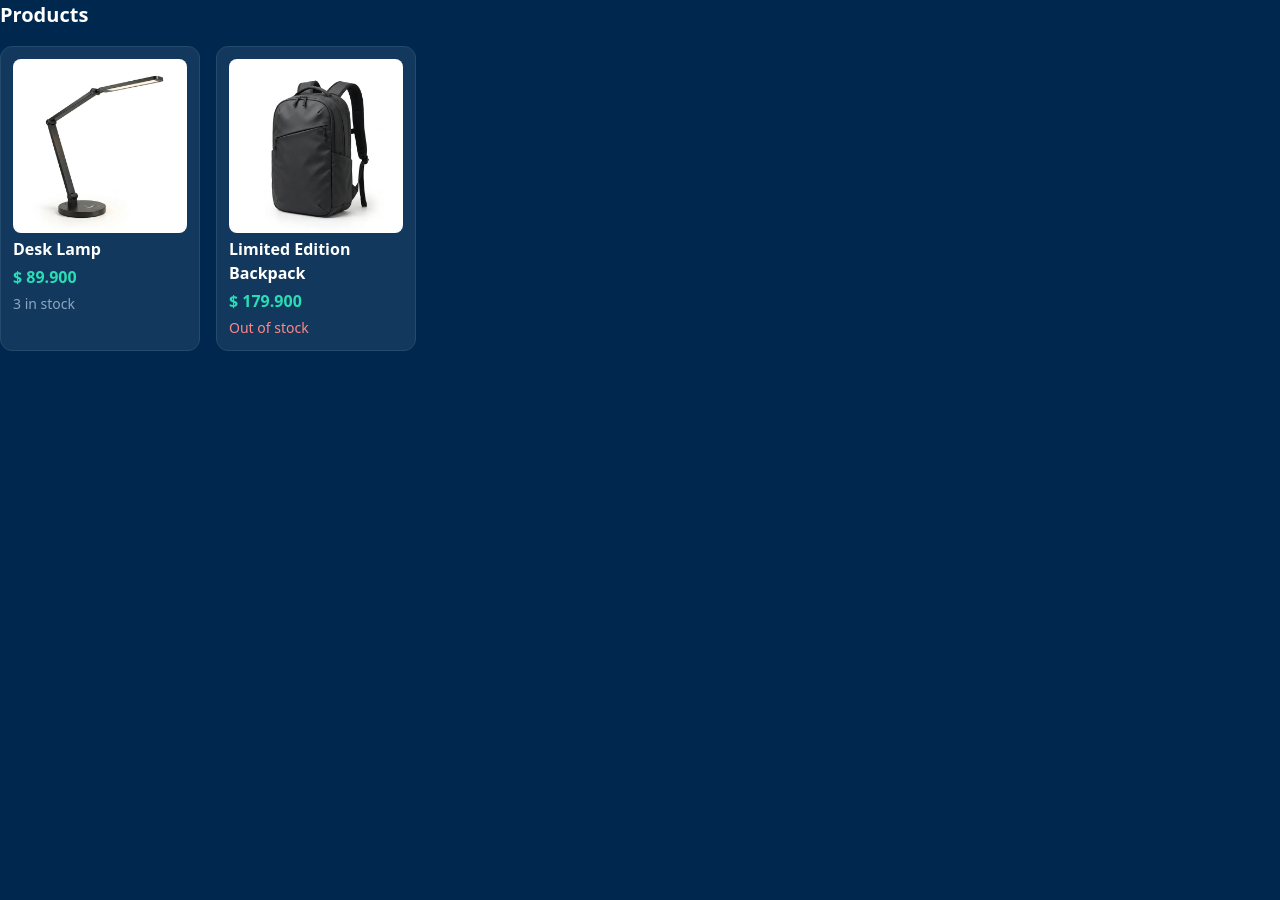
Test: ProductPage › closes the modal with the close button or Escape, but not by clicking outside it
Later steps or results of the test are not shown.
What coordinates should you click on to do the following:
click the button "Desk Lamp $ 89.900 3 in stock"
I would click on:
 (100, 198)
Its box is top-left (0, 46), bottom-right (200, 351).
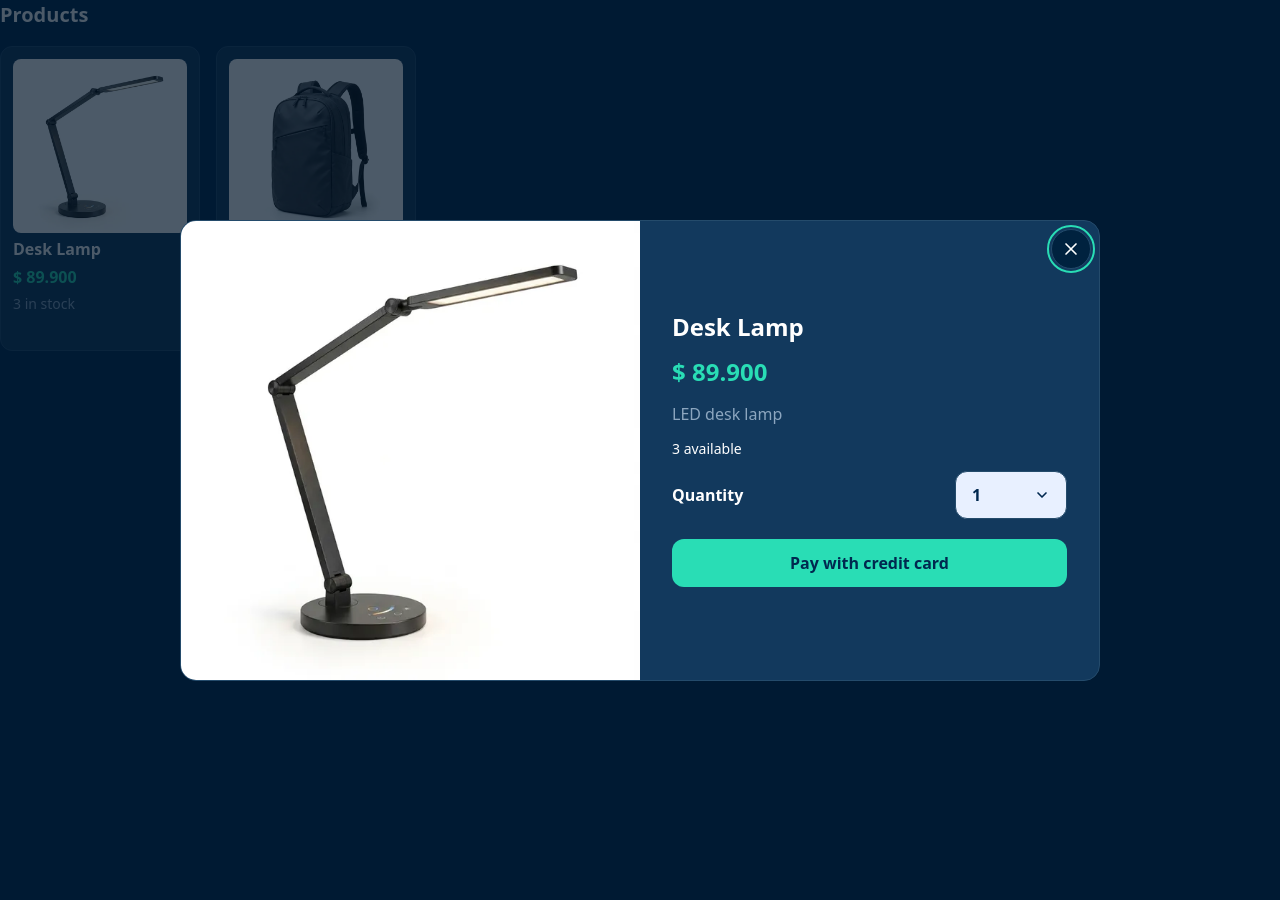
What coordinates should you click on to do the following:
click the dialog
I would click on:
 (640, 450)
Its box is top-left (180, 220), bottom-right (1100, 680).
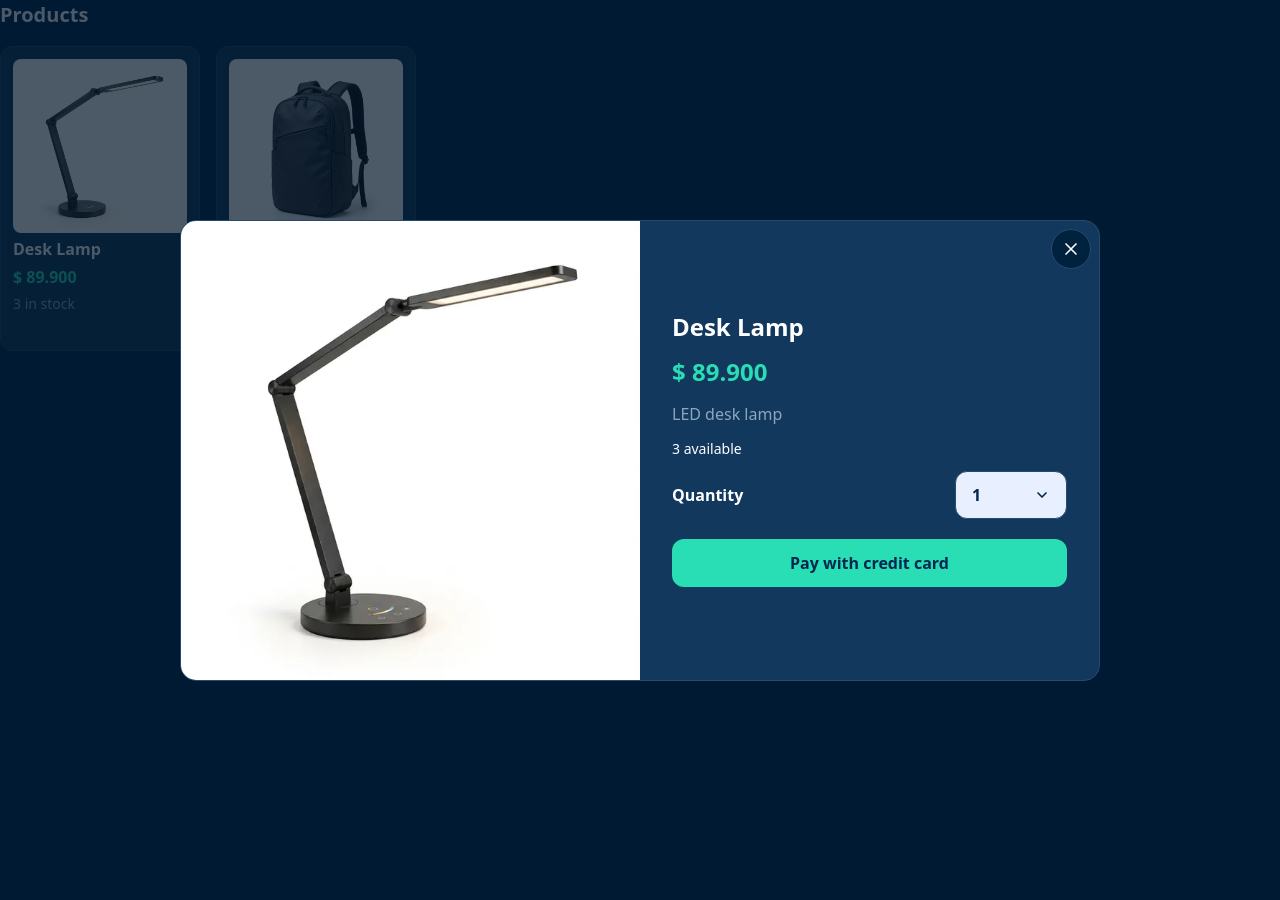
Result: the dialog is shown at top-left (180, 220), bottom-right (1100, 680)
What coordinates should you click on to do the following:
click the button named "Close"
I would click on:
 (1071, 248)
Its box is top-left (1051, 228), bottom-right (1091, 268).
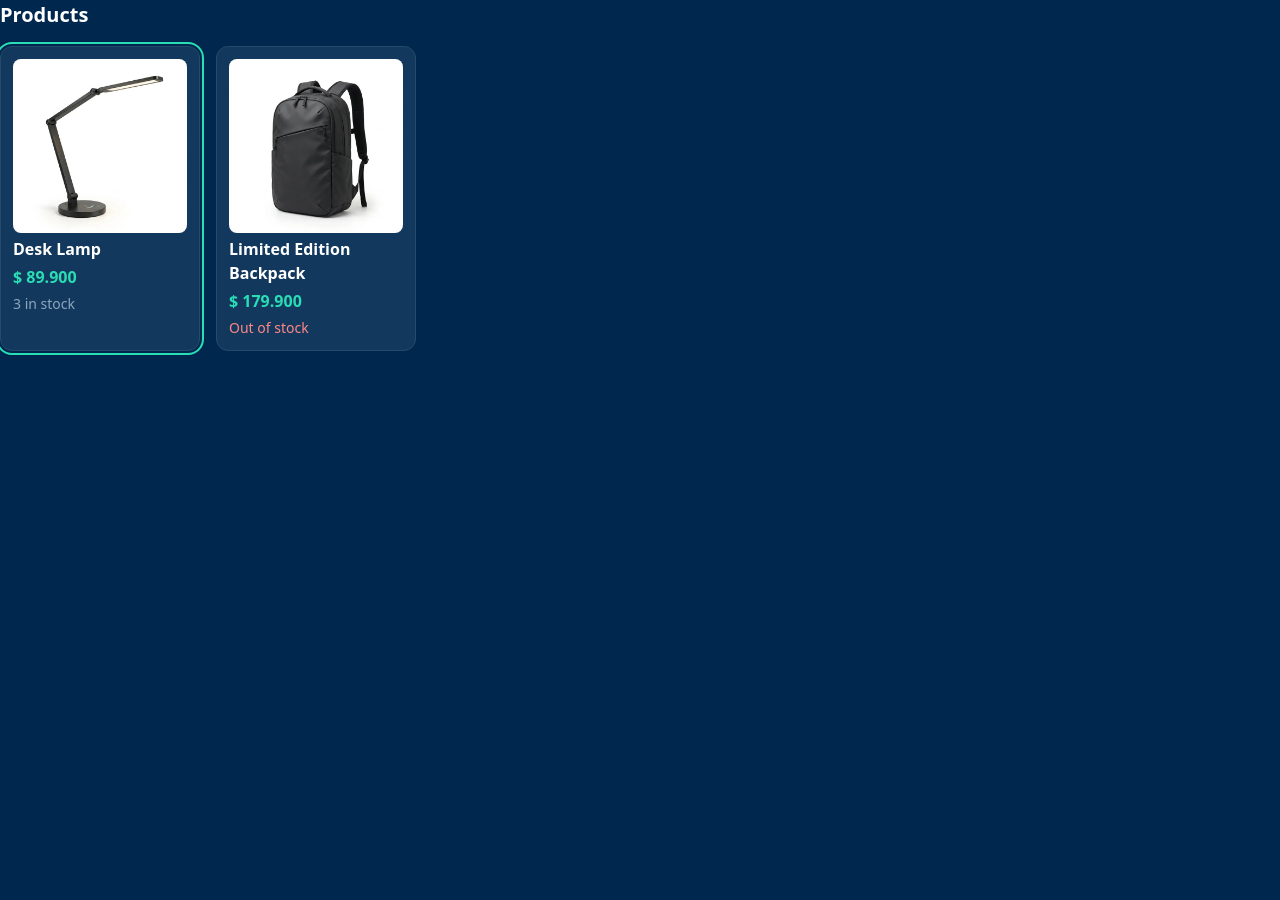
Result: the dialog is gone
